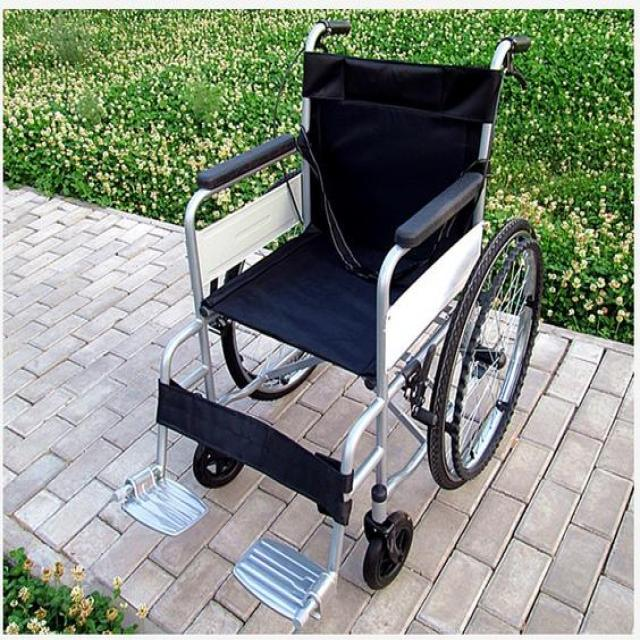wheelchairs: (116, 17, 557, 629)
